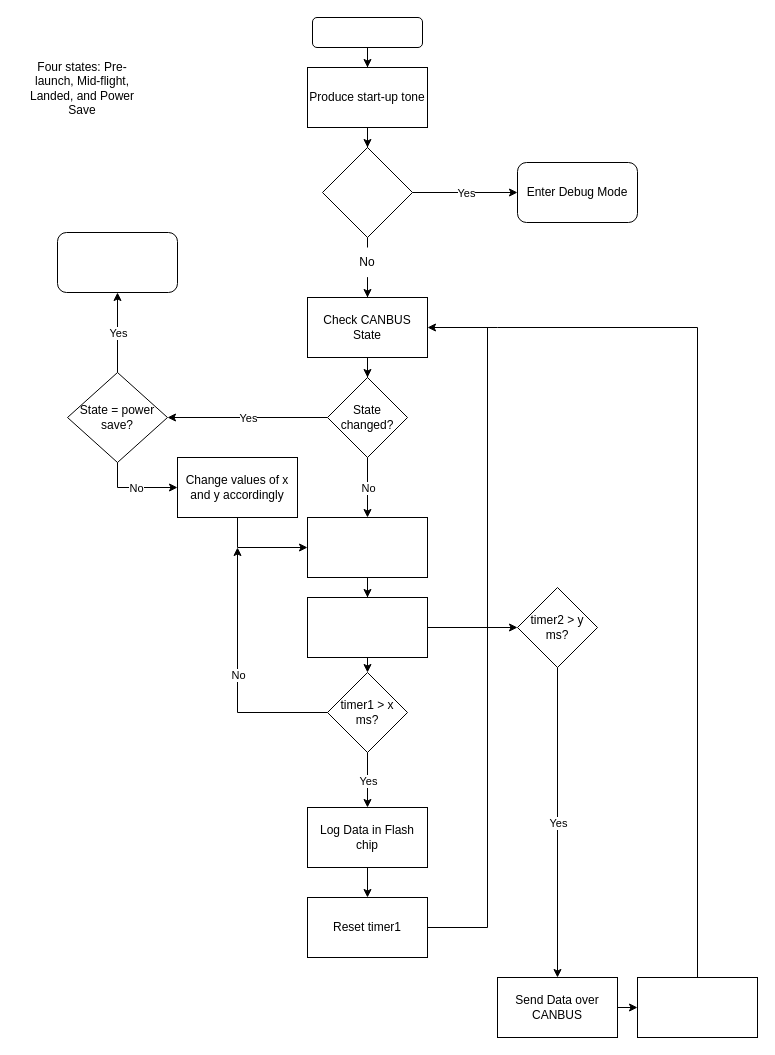
This 775x1055 diagram has some shape labels left out. Each missing label, with the box of its shape:
Enter Power Save: (56, 232, 178, 292)
Get Lat/Lon from GPS: (306, 516, 428, 578)
Reset timer2: (636, 976, 758, 1038)
Start: (312, 16, 422, 48)
Store in 'lat' and 'lon' variables: (306, 596, 428, 658)
USB Connected?: (322, 146, 412, 238)
